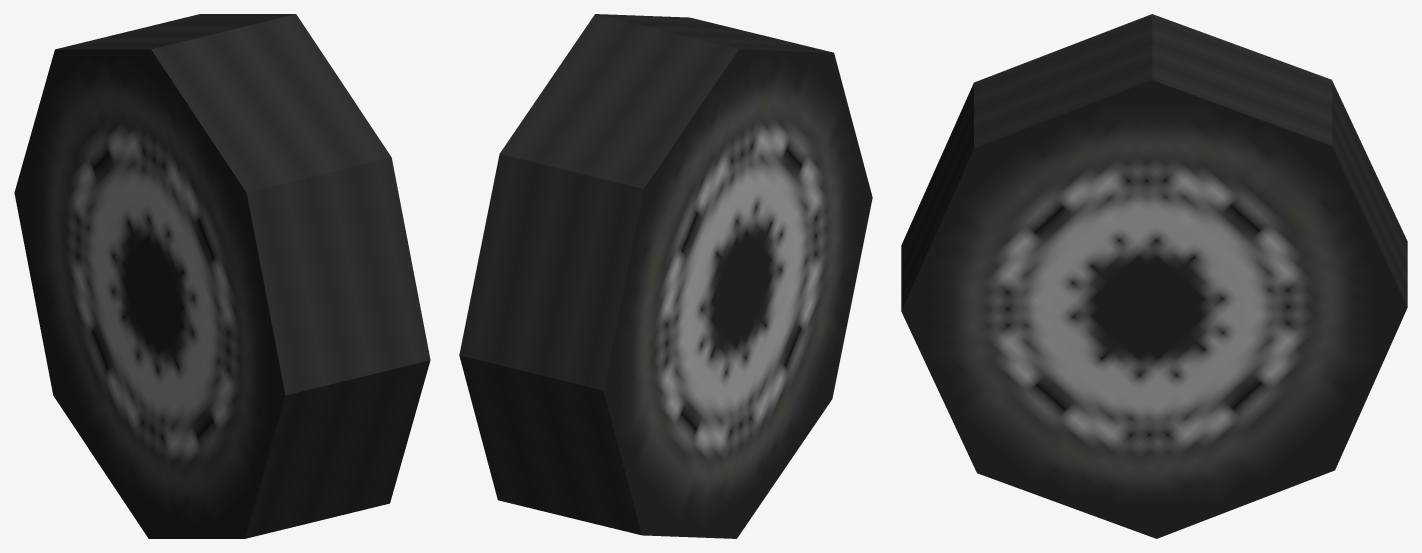
Rendered from Wheel8.obj.
The picture shows the model from 3 angles, left to right: view 1: azimuth 30°, elevation 25°; view 2: azimuth 150°, elevation 25°; view 3: azimuth 270°, elevation 25°; orthographic projection. The views are drawn at different scales.
Parts seen in each view (by area): view 1: Car8.001; view 2: Car8.001; view 3: Car8.001.
Part boxes in pixels (x1,y1,x2,y2): Car8.001: (14,14,430,538); Car8.001: (459,14,872,538); Car8.001: (901,14,1407,538).
Size of the model in its own units: 0.3494 by 1.13 by 1.13.
1 material, 1 textured.
